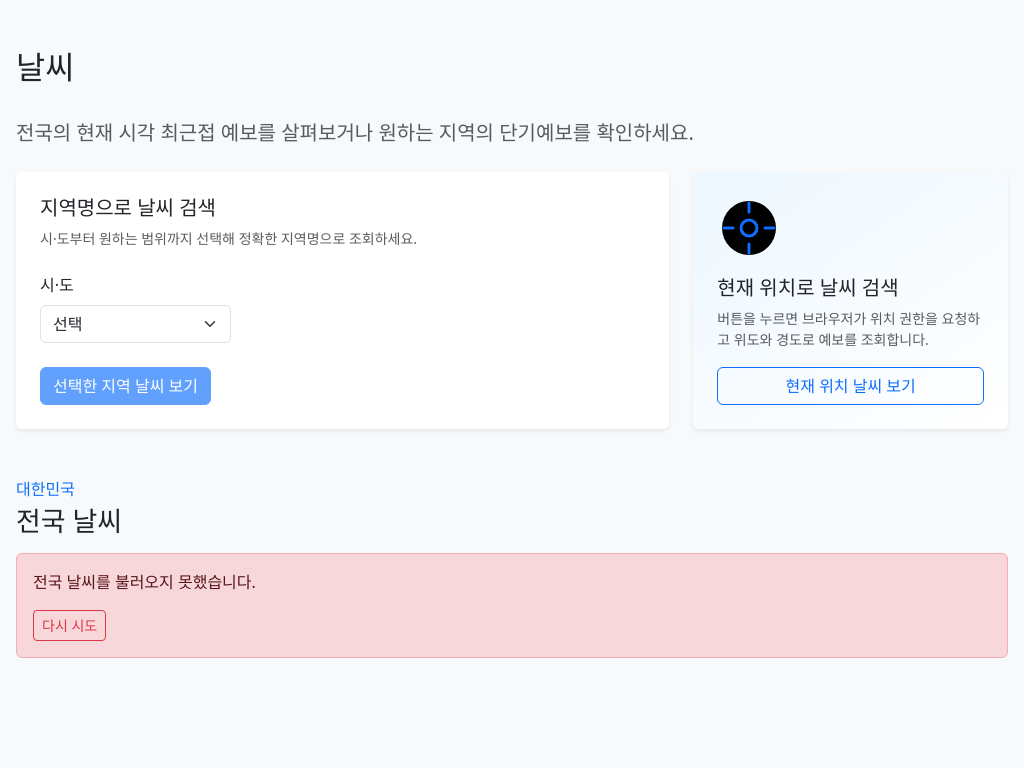
WeatherView › 전국 날씨의 빈 상태와 오류 재시도를 구분한다
expect the message shows "전국 날씨를 불러오지 못했습니다.": met, box [33,571,256,593]
Click the button "다시 시도": [70, 626] box [33,610,106,641]
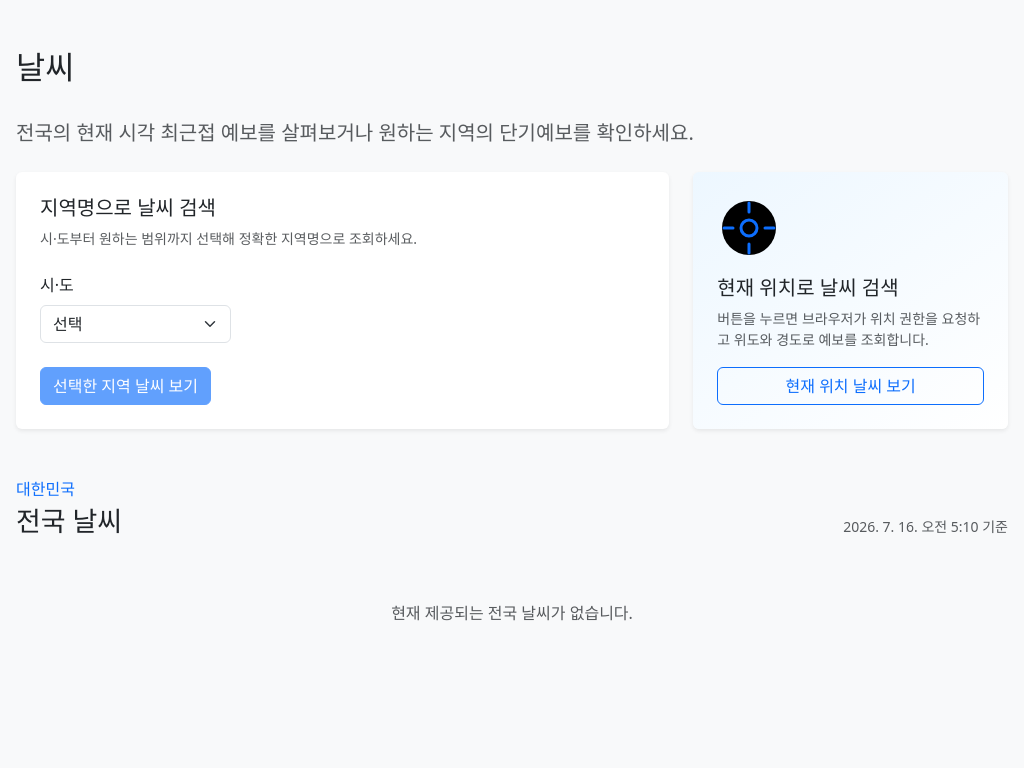
expect the text "현재 제공되는 전국 날씨가 없습니다." is shown: met, box [391,602,633,624]
